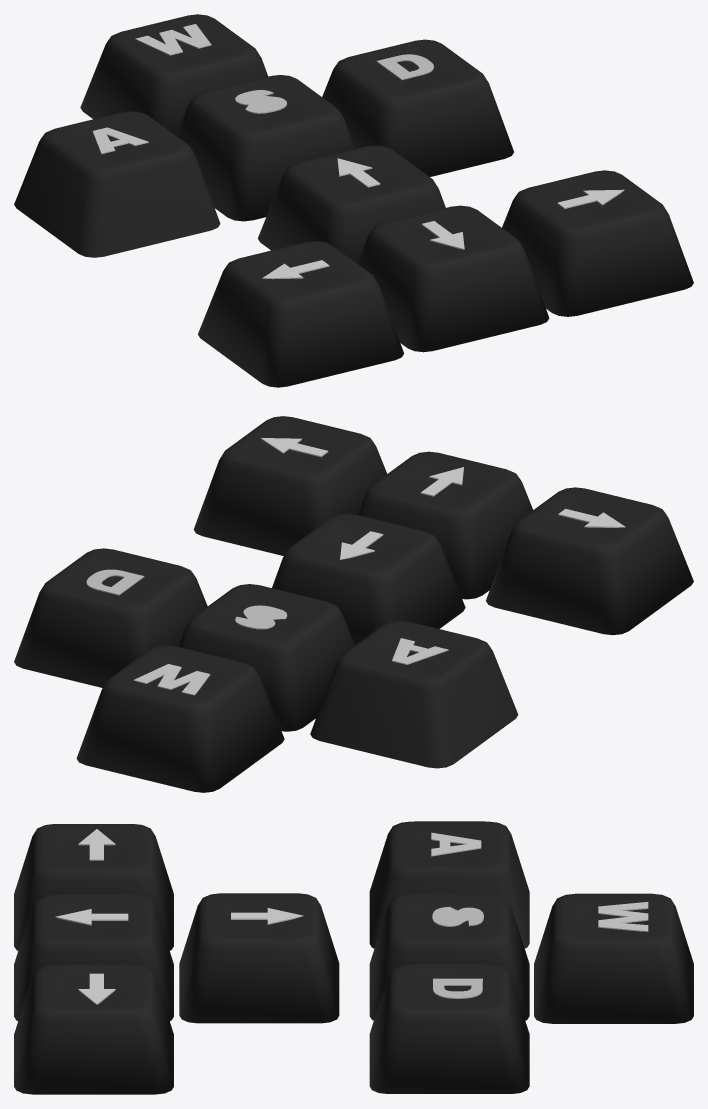
File: InputKeys.fbx
The picture shows the model from 3 angles, top to bottom: view 1: azimuth 30°, elevation 25°; view 2: azimuth 150°, elevation 25°; view 3: azimuth 270°, elevation 25°; orthographic projection.
Visible parts, largest first — view 1: KeyCap, KeyCap.ArrowLeft, KeyCap.ArrowDown, KeyCap.ArrowRight, KeyCap.003, KeyCap.002, KeyCap.001, KeyCap.ArrowUp; view 2: KeyCap.ArrowLeft, KeyCap.001, KeyCap, KeyCap.ArrowRight, KeyCap.003, KeyCap.ArrowUp, KeyCap.002, KeyCap.ArrowDown; view 3: KeyCap.ArrowUp, KeyCap.ArrowRight, KeyCap.001, KeyCap.003, KeyCap, KeyCap.002, KeyCap.ArrowLeft, KeyCap.ArrowDown.
Boxes of the visible parts, x1,y1,x2,y2 form: KeyCap: (14,111,220,257); KeyCap.ArrowLeft: (198,241,403,387); KeyCap.ArrowDown: (357,205,549,352); KeyCap.ArrowRight: (502,170,693,316); KeyCap.003: (322,39,513,176); KeyCap.002: (176,75,355,221); KeyCap.001: (80,14,268,135); KeyCap.ArrowUp: (258,145,445,263); KeyCap.ArrowLeft: (486,487,693,635); KeyCap.001: (76,645,284,792); KeyCap: (310,620,518,768); KeyCap.ArrowRight: (193,416,386,555); KeyCap.003: (14,548,207,687); KeyCap.ArrowUp: (272,513,465,644); KeyCap.002: (178,584,354,731); KeyCap.ArrowDown: (358,451,532,599); KeyCap.ArrowUp: (179,893,339,1023); KeyCap.ArrowRight: (14,964,173,1094); KeyCap.001: (534,893,693,1023); KeyCap.003: (369,964,529,1093); KeyCap: (369,821,529,948); KeyCap.002: (369,893,529,1020); KeyCap.ArrowLeft: (14,824,173,950); KeyCap.ArrowDown: (14,894,173,1020).
Bounding box in the file's own units: 167 × 27.2 × 228.
1 material, 1 textured.
